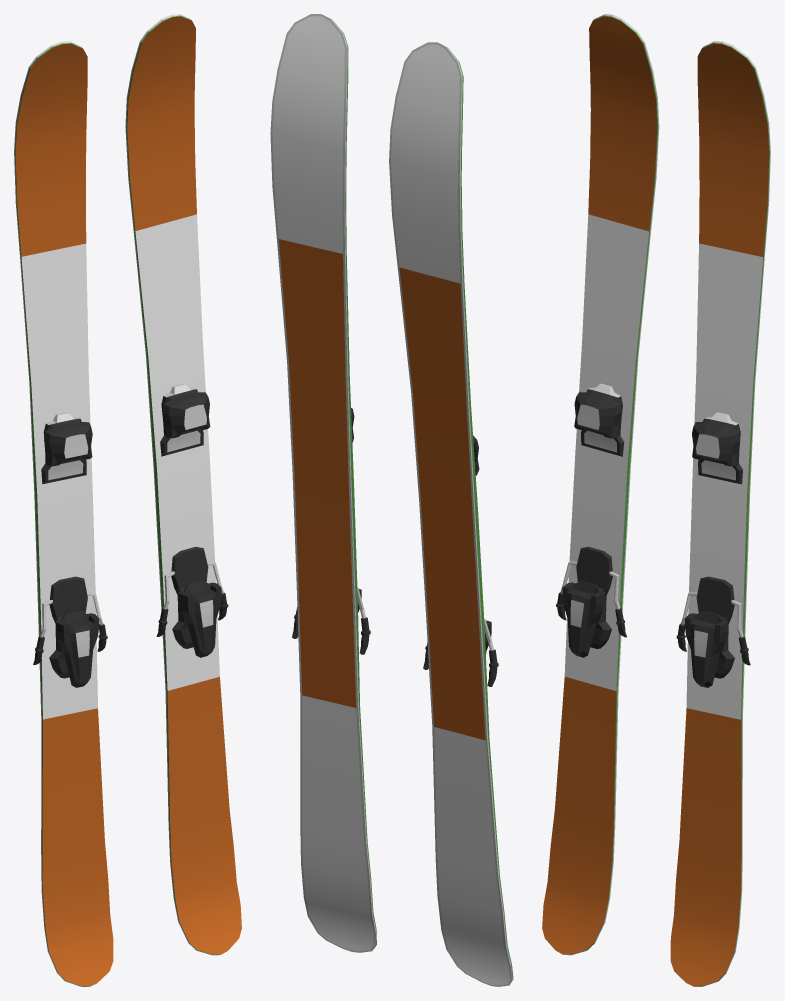
The model's file is Skis.fbx.
3 renders of one model, left to right at view 1: azimuth 30°, elevation 25°; view 2: azimuth 150°, elevation 25°; view 3: azimuth 330°, elevation 25°, orthographic. The views are drawn at different scales.
Parts seen in each view (by area): view 1: Ski_L, Ski_R; view 2: Ski_R, Ski_L; view 3: Ski_R, Ski_L.
Boxes of the visible parts, left/top/right/bottom form: Ski_L: left=14, top=41, right=113, bottom=986; Ski_R: left=125, top=14, right=241, bottom=955; Ski_R: left=270, top=14, right=376, bottom=952; Ski_L: left=389, top=42, right=513, bottom=986; Ski_R: left=670, top=41, right=770, bottom=986; Ski_L: left=542, top=14, right=659, bottom=955.
Bounding box in the file's own units: 40.57 × 185 × 19.6.
